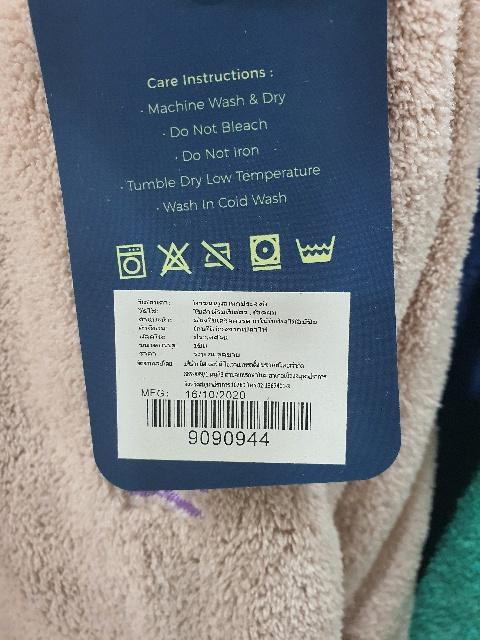Barcode: (137, 396, 323, 449)
